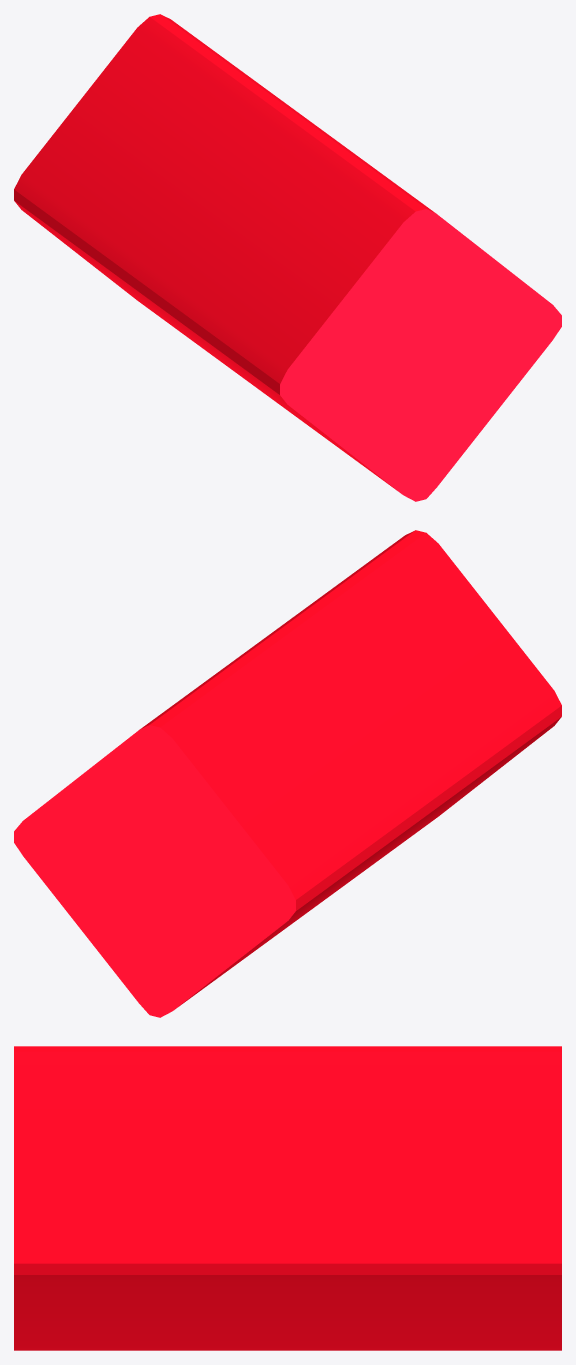
File: 4811a4b9-9f79-4aab-ad66-bf69aa7d59e1.glb
The picture shows the model from 3 angles, top to bottom: view 1: azimuth 30°, elevation 25°; view 2: azimuth 150°, elevation 25°; view 3: azimuth 270°, elevation 25°; orthographic projection. The views are drawn at different scales.
Parts seen in each view (by area): view 1: ._Soul_Red; view 2: ._Soul_Red; view 3: ._Soul_Red.
Part boxes in pixels (left/top/right/bottom): ._Soul_Red: left=14, top=14, right=561, bottom=501; ._Soul_Red: left=14, top=530, right=561, bottom=1017; ._Soul_Red: left=14, top=1046, right=561, bottom=1350.
Size of what is drawn, in the model's own units: 0.0275 by 0.0271 by 0.045.
Materials: 2 (2 with a texture image).
